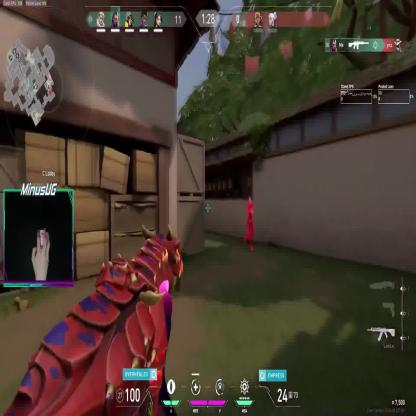enemy: (243, 197, 254, 251)
enemy_head: (248, 197, 252, 207)
